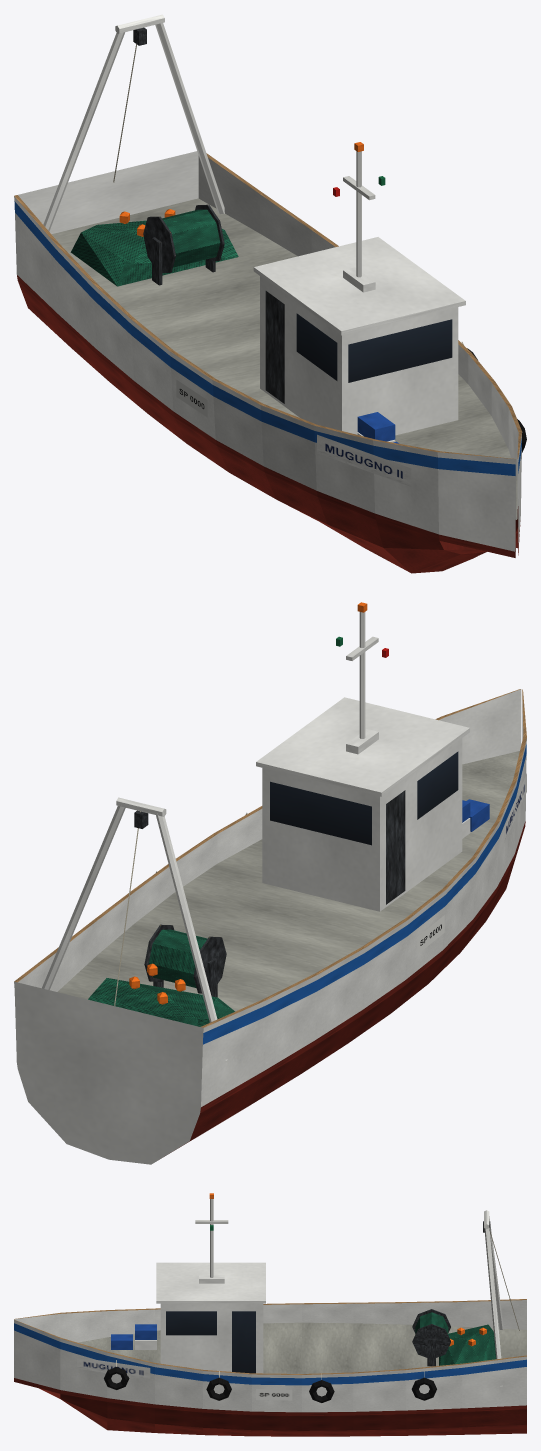
File: SM_Molo_Peschereccio14_LOD1.fbx
3 renders of one model, top to bottom at view 1: azimuth 30°, elevation 25°; view 2: azimuth 150°, elevation 25°; view 3: azimuth 270°, elevation 25°, orthographic. The views are drawn at different scales.
Visible parts, largest first — view 1: SM_Molo_Peschereccio14_LOD1; view 2: SM_Molo_Peschereccio14_LOD1; view 3: SM_Molo_Peschereccio14_LOD1.
Boxes of the visible parts, x1,y1,x2,y2 form: SM_Molo_Peschereccio14_LOD1: [14, 14, 526, 573]; SM_Molo_Peschereccio14_LOD1: [14, 602, 526, 1164]; SM_Molo_Peschereccio14_LOD1: [14, 1193, 526, 1436].
Size of the model in its own units: 486 by 1400 by 692.
1 material, 1 textured.
